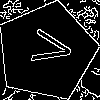V: (21, 26, 74, 69)
